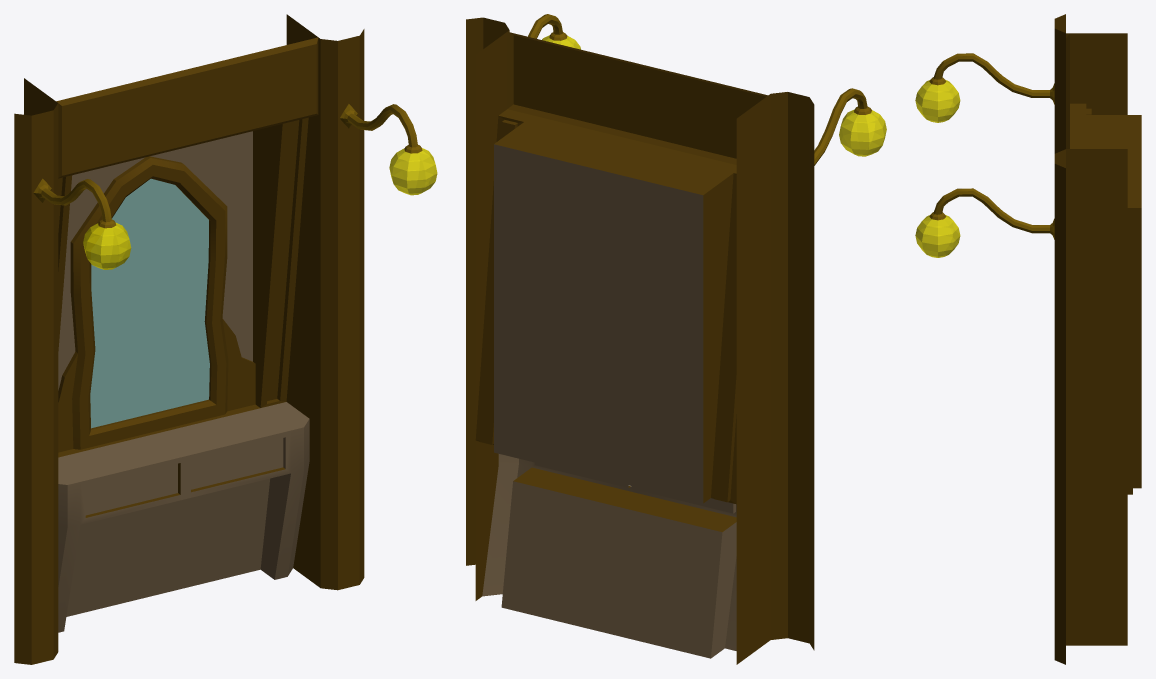
File: ModuloEspejo.fbx
3 renders of one model, left to right at view 1: azimuth 30°, elevation 25°; view 2: azimuth 150°, elevation 25°; view 3: azimuth 270°, elevation 25°, orthographic. The views are drawn at different scales.
Visible parts, largest first — view 1: ModuloEspejo; view 2: ModuloEspejo; view 3: ModuloEspejo.
Part boxes in pixels (x1,y1,x2,y2): ModuloEspejo: [14, 14, 437, 664]; ModuloEspejo: [466, 14, 886, 664]; ModuloEspejo: [915, 14, 1141, 664].
Size of the model in its own units: 2 by 3 by 1.24.
